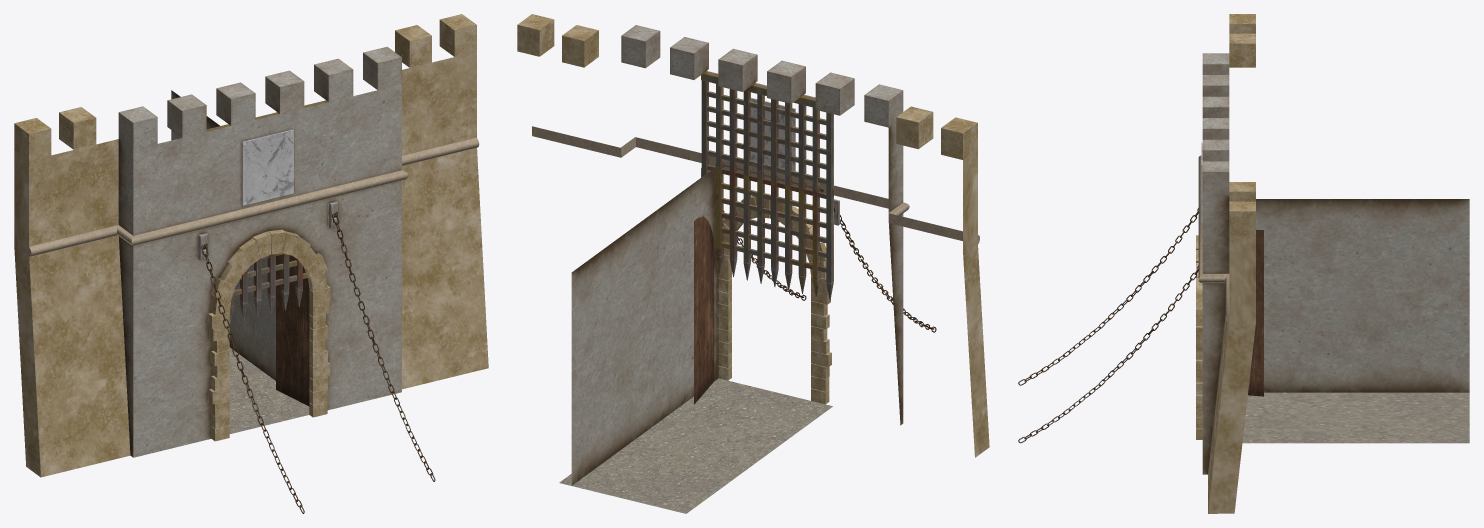
Rendered from asset.glb.
3 views of the same model, side by side, from view 1: azimuth 30°, elevation 25°; view 2: azimuth 150°, elevation 25°; view 3: azimuth 270°, elevation 25° (orthographic). The views are drawn at different scales.
Visible parts, largest first — view 1: PORTA; view 2: PORTA; view 3: PORTA.
Part boxes in pixels (x1=…): PORTA: x1=14, y1=14, x2=488, y2=513; PORTA: x1=517, y1=14, x2=989, y2=513; PORTA: x1=1018, y1=14, x2=1469, y2=513.
Bounding box in the file's own units: 18.42 × 13.16 × 17.79.
Materials: 1 (1 with a texture image).
